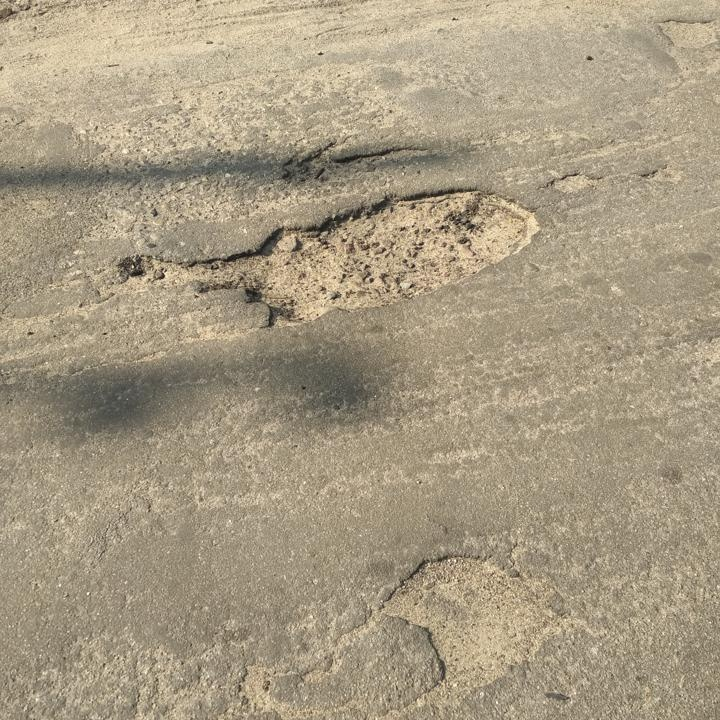pothole: (112, 182, 545, 332), (376, 549, 547, 710), (277, 137, 437, 189), (652, 10, 719, 51), (547, 168, 602, 194)
